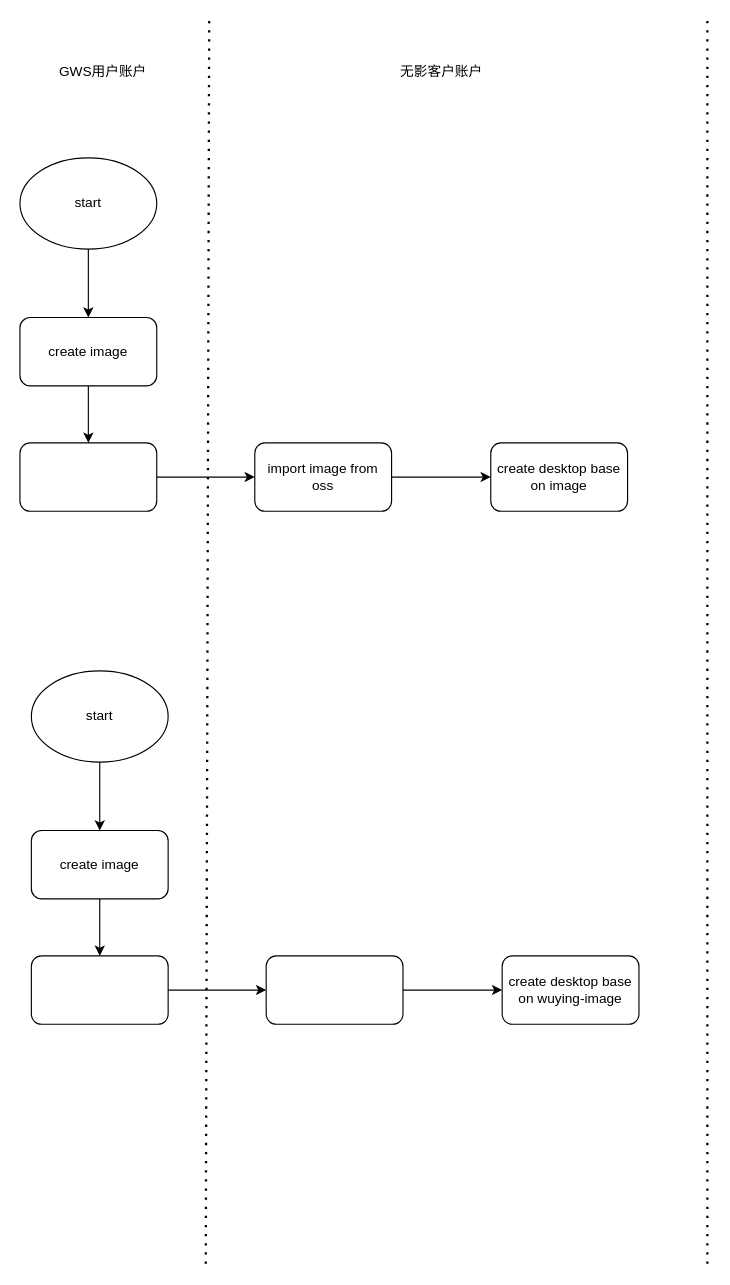
This 730x1285 diagram has some shape labels left out. The shapes that lost their labels are listed below. From the top down, each one's centre as x and y in pixels, then its label:
point (88, 476): upload image to oss bucket
point (99, 989): share image to wuying account
point (334, 989): create wuying image based on ecs image
